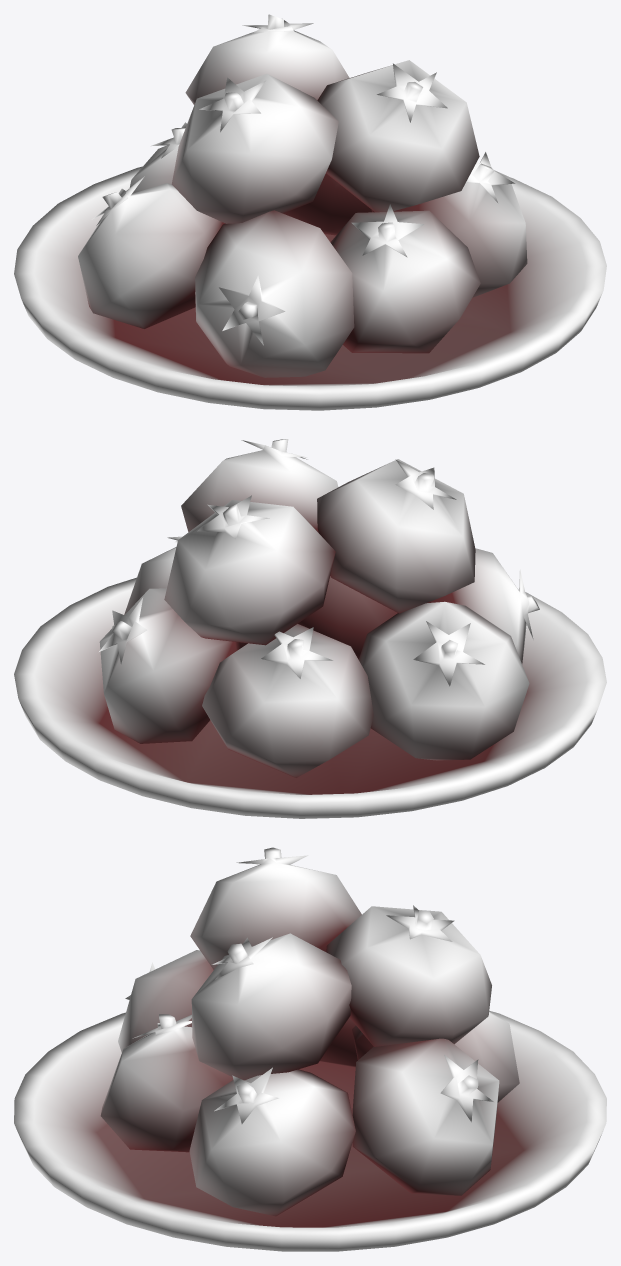
Rendered from sb_obj_indoor015_Vegetables01b.fbx.
3 views of the same model, one above another, from view 1: azimuth 30°, elevation 25°; view 2: azimuth 150°, elevation 25°; view 3: azimuth 270°, elevation 25° (orthographic).
Visible parts, largest first — view 1: sb_obj_indoor015_Vegetables01b; view 2: sb_obj_indoor015_Vegetables01b; view 3: sb_obj_indoor015_Vegetables01b.
Part boxes in pixels (<box>): sb_obj_indoor015_Vegetables01b: <box>14,14,606,410</box>; sb_obj_indoor015_Vegetables01b: <box>14,439,606,818</box>; sb_obj_indoor015_Vegetables01b: <box>14,847,606,1251</box>.
Bounding box in the file's own units: 0.3775 × 0.1856 × 0.3775.
